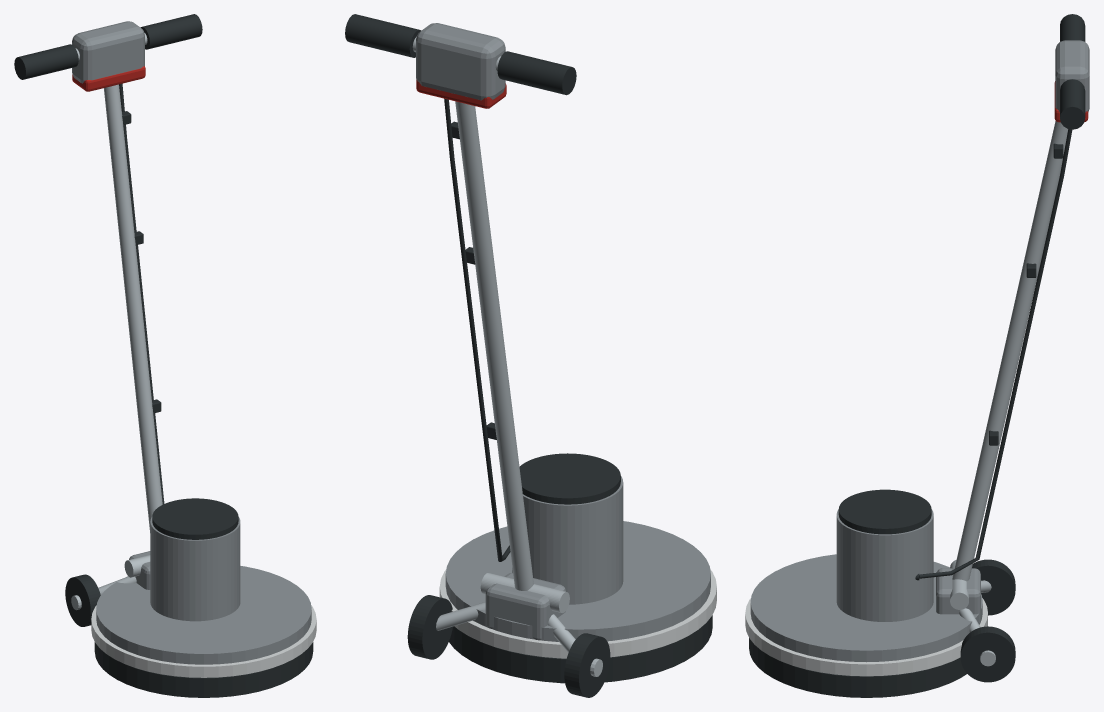
The model's file is A-NEW-20261026-FLOOR-POLISHER-001_LOD1_R1.fbx.
3 renders of one model, left to right at view 1: azimuth 30°, elevation 25°; view 2: azimuth 150°, elevation 25°; view 3: azimuth 270°, elevation 25°, orthographic. The views are drawn at different scales.
Parts seen in each view (by area): view 1: brush deck, motor housing, inclined straight shaft, dark bristle annulus, outer bumper, central control housing, motor upper cap, hand grip -1, hand grip 1, transport wheel -1, shaft electrical cable, red lower control; view 2: brush deck, inclined straight shaft, motor housing, central control housing, dark bristle annulus, motor upper cap, outer bumper, rear hinge base, shaft electrical cable, hand grip -1, transport wheel -1, transport wheel 1 (+4 smaller); view 3: brush deck, motor housing, inclined straight shaft, dark bristle annulus, outer bumper, motor upper cap, shaft electrical cable, transport wheel 1, central control housing, transport wheel -1, rear hinge base, hand grip 1 (+2 smaller).
Part boxes in pixels (left/top/right/bottom): brush deck: left=96, top=566, right=311, bottom=664; motor housing: left=150, top=516, right=240, bottom=621; inclined straight shaft: left=104, top=84, right=162, bottom=532; dark bristle annulus: left=94, top=642, right=313, bottom=697; outer bumper: left=91, top=605, right=316, bottom=677; central control housing: left=72, top=21, right=144, bottom=83; motor upper cap: left=152, top=498, right=238, bottom=539; hand grip -1: left=14, top=44, right=78, bottom=79; hand grip 1: left=140, top=14, right=202, bottom=49; transport wheel -1: left=65, top=574, right=100, bottom=626; shaft electrical cable: left=119, top=83, right=164, bottom=504; red lower control: left=72, top=66, right=145, bottom=91; brush deck: left=445, top=521, right=710, bottom=641; inclined straight shaft: left=455, top=101, right=533, bottom=590; motor housing: left=512, top=476, right=623, bottom=604; central control housing: left=416, top=23, right=505, bottom=100; dark bristle annulus: left=449, top=615, right=712, bottom=683; motor upper cap: left=519, top=453, right=620, bottom=504; outer bumper: left=439, top=569, right=716, bottom=658; rear hinge base: left=485, top=573, right=565, bottom=640; shaft electrical cable: left=444, top=98, right=510, bottom=561; hand grip -1: left=497, top=51, right=576, bottom=95; transport wheel -1: left=564, top=633, right=610, bottom=697; transport wheel 1: left=407, top=595, right=452, bottom=659; brush deck: left=750, top=554, right=982, bottom=662; motor housing: left=836, top=509, right=933, bottom=621; inclined straight shaft: left=952, top=121, right=1068, bottom=581; dark bristle annulus: left=749, top=638, right=966, bottom=697; outer bumper: left=745, top=598, right=987, bottom=676; motor upper cap: left=838, top=489, right=931, bottom=534; shaft electrical cable: left=919, top=129, right=1072, bottom=578; transport wheel 1: left=960, top=626, right=1015, bottom=682; central control housing: left=1055, top=40, right=1089, bottom=112; transport wheel -1: left=972, top=559, right=1015, bottom=615; rear hinge base: left=936, top=568, right=980, bottom=624; hand grip 1: left=1060, top=79, right=1085, bottom=129.
Bounding box in the file's own units: 46 × 124 × 65.25.
